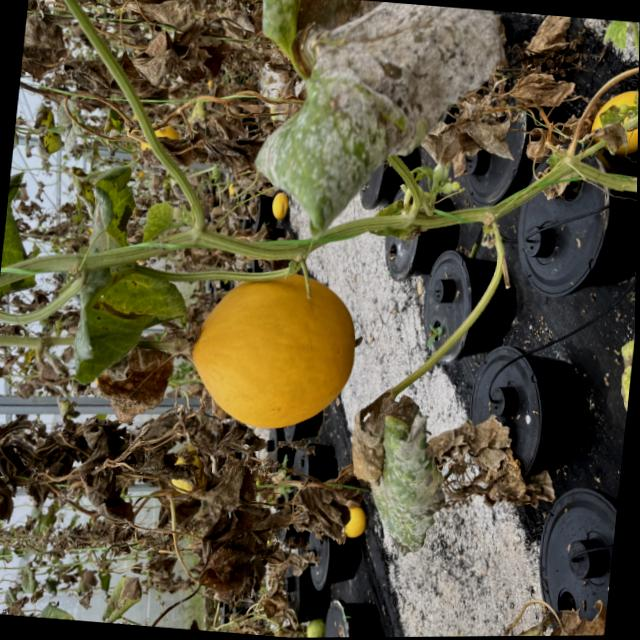bacterial wilt: (242, 0, 515, 254), (48, 158, 206, 398), (340, 382, 460, 553), (222, 518, 293, 607), (136, 24, 213, 93), (107, 338, 174, 417), (68, 408, 126, 494), (193, 475, 261, 544), (460, 81, 522, 155), (169, 119, 236, 176), (275, 477, 340, 531), (183, 406, 237, 463), (511, 12, 564, 69), (506, 61, 561, 109), (0, 427, 30, 499), (126, 446, 176, 487), (189, 0, 247, 33), (118, 0, 186, 19)
